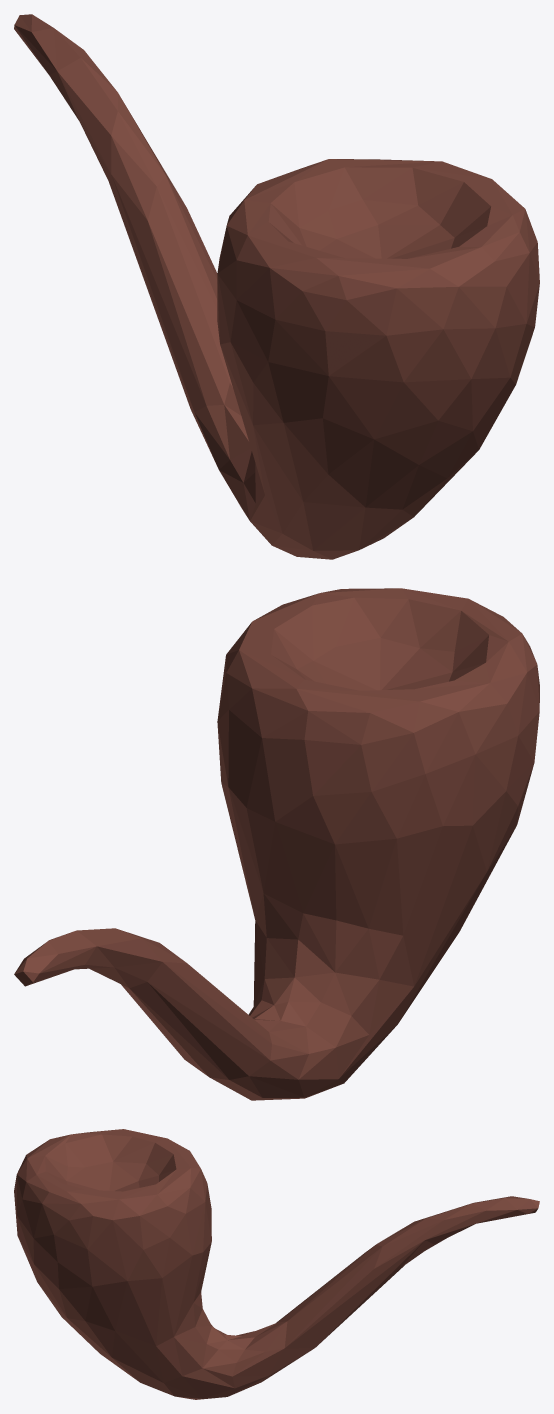
The model's file is pipa.fbx.
3 views of the same model, one above another, from view 1: azimuth 30°, elevation 25°; view 2: azimuth 150°, elevation 25°; view 3: azimuth 270°, elevation 25° (orthographic). The views are drawn at different scales.
Parts seen in each view (by area): view 1: Circle; view 2: Circle; view 3: Circle.
Boxes of the visible parts, x1,y1,x2,y2 form: Circle: (14,14,539,559); Circle: (14,588,539,1100); Circle: (14,1129,539,1399).
Bounding box in the file's own units: 197 × 266 × 539.
